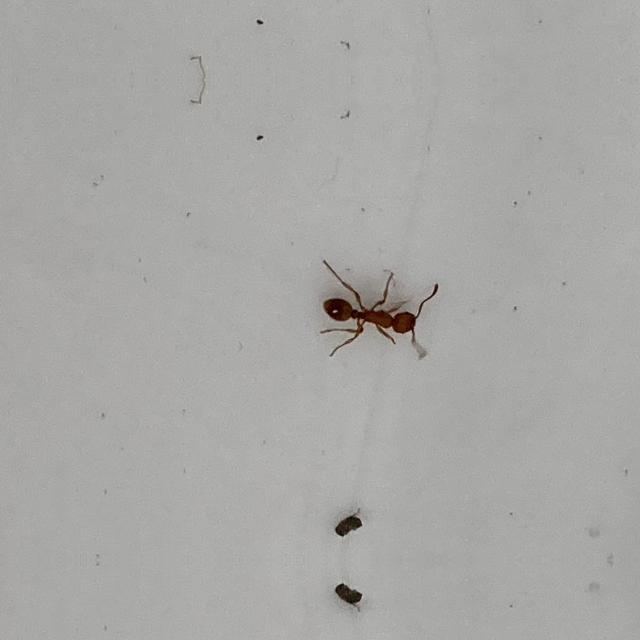Myrmica: (311, 268, 449, 359)
